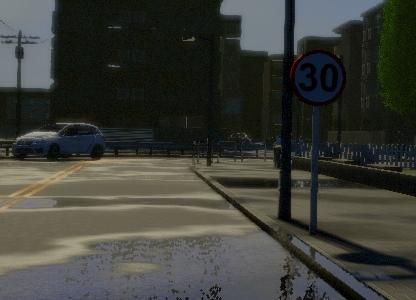Speed_30: (287, 50, 350, 106)
